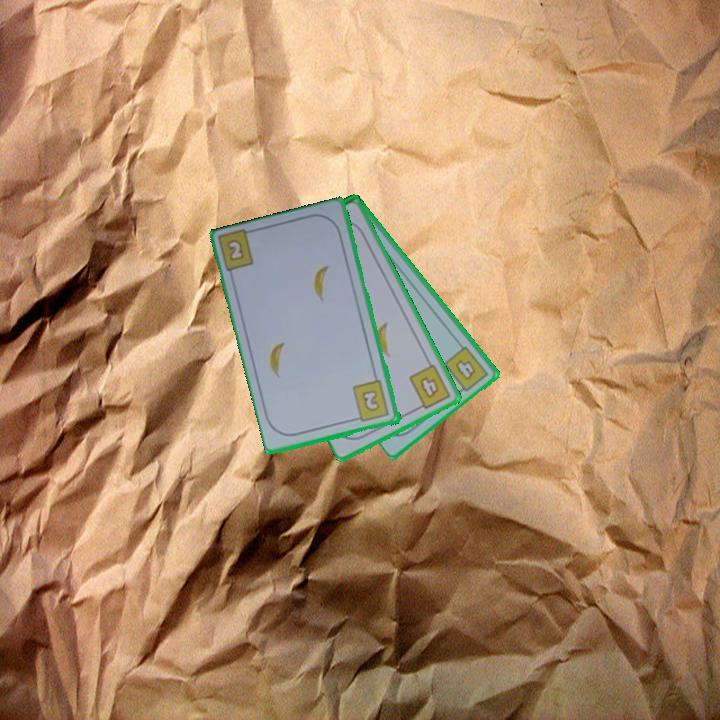2b: (349, 377, 392, 425), (222, 236, 248, 264)
4b: (440, 342, 491, 397), (405, 361, 454, 413)
